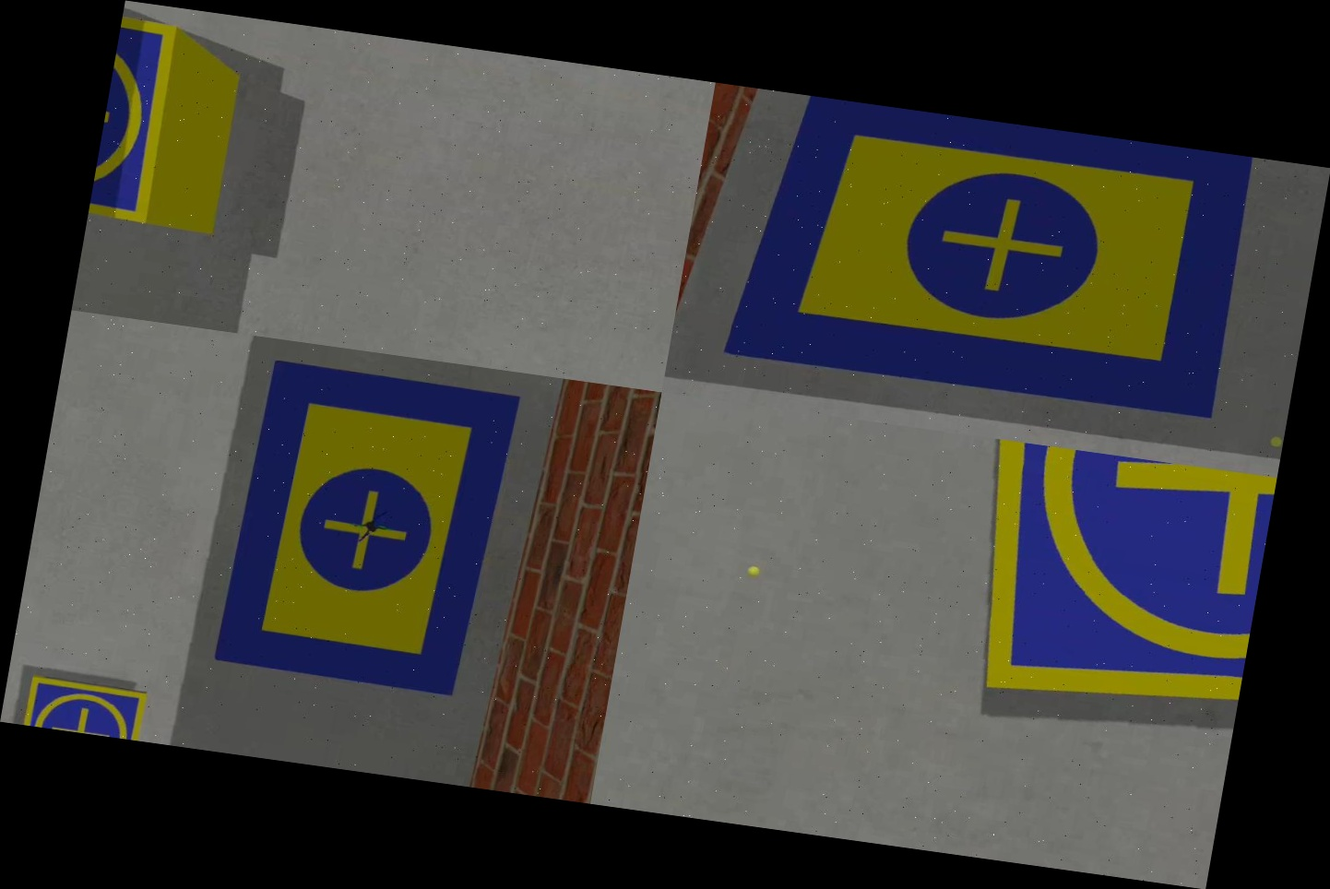large_base: (718, 89, 1268, 434), (211, 352, 523, 705)
small_base: (930, 436, 1276, 741), (88, 11, 198, 229), (18, 671, 152, 741)
